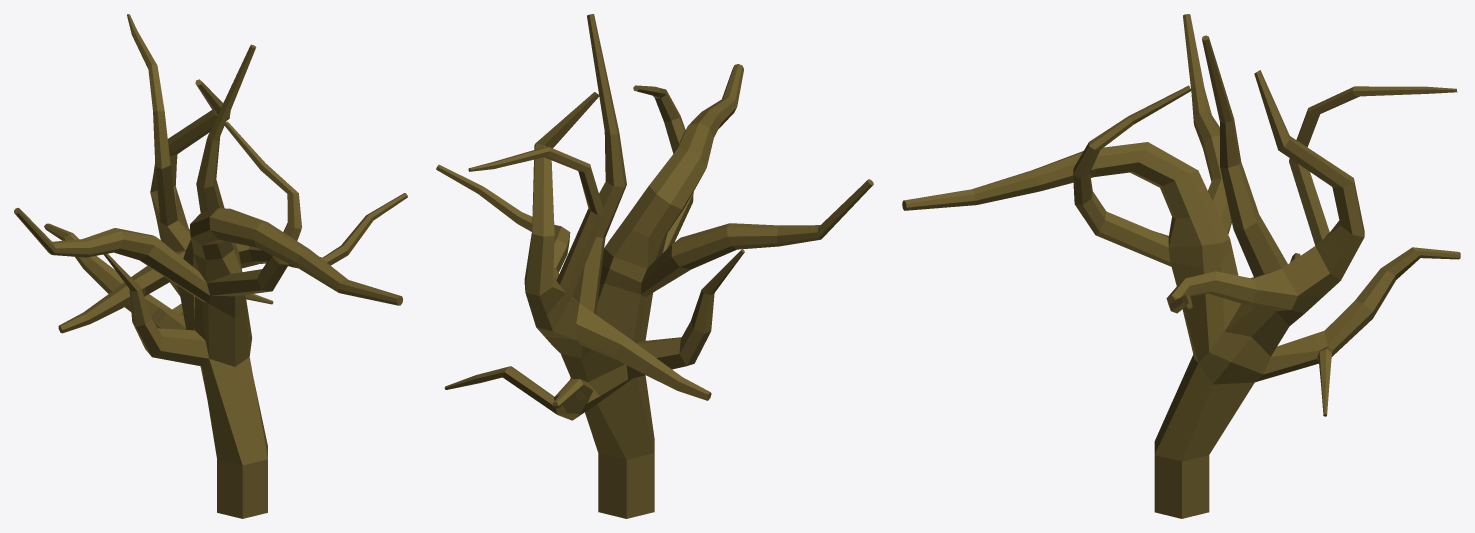
Rendered from tree.fbx.
The picture shows the model from 3 angles, left to right: view 1: azimuth 30°, elevation 25°; view 2: azimuth 150°, elevation 25°; view 3: azimuth 270°, elevation 25°; orthographic projection. The views are drawn at different scales.
Parts seen in each view (by area): view 1: pCylinder1; view 2: pCylinder1; view 3: pCylinder1.
Part boxes in pixels (x1,y1,x2,y2): pCylinder1: (14, 14, 407, 518); pCylinder1: (436, 14, 873, 518); pCylinder1: (902, 14, 1460, 518).
Size of the model in its own units: 15.43 by 16.76 by 17.68.
